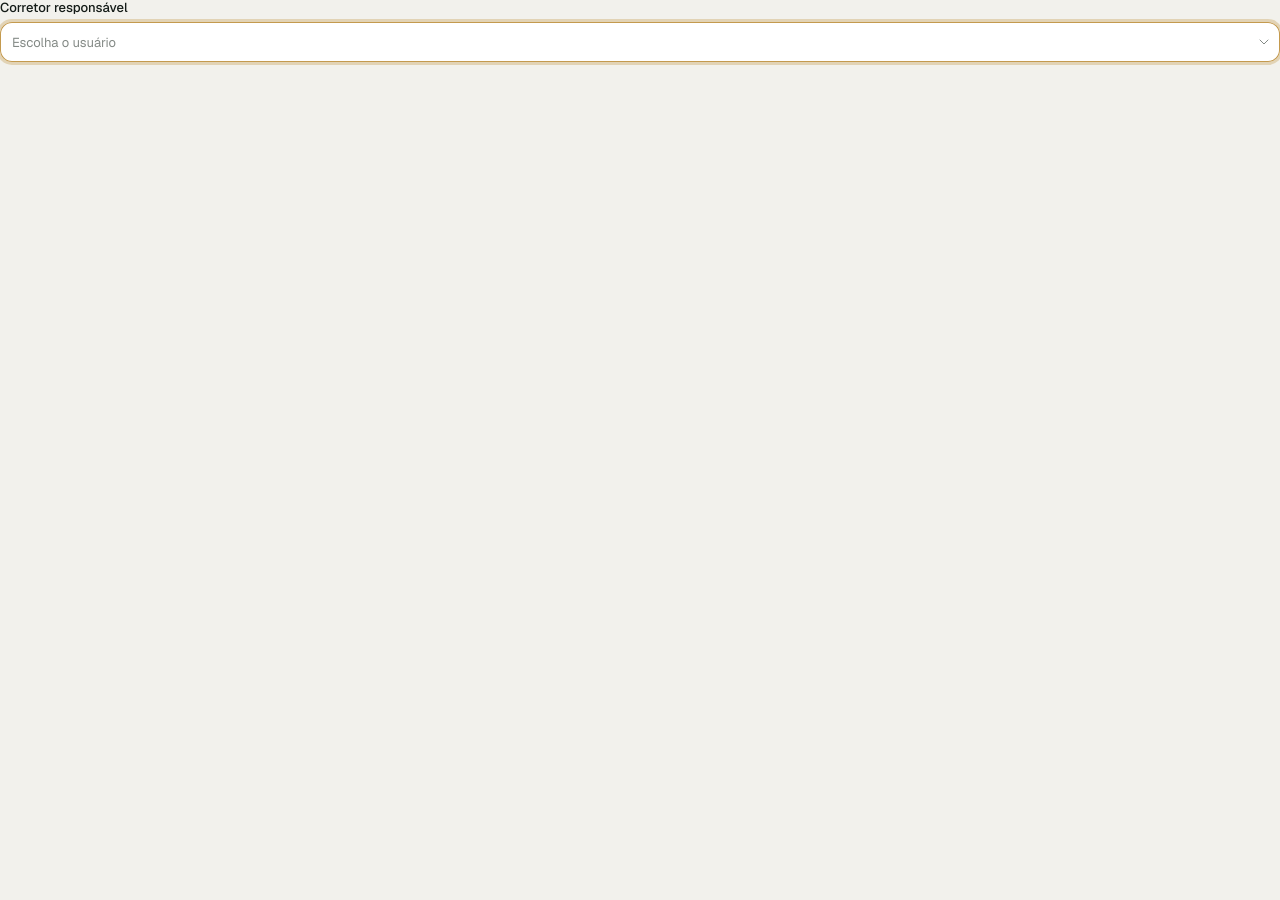
Test case: UserPicker › lista nome e e-mail e devolve o usuário escolhido pelo teclado
The image size is (1280, 900).
Press Arrowdown
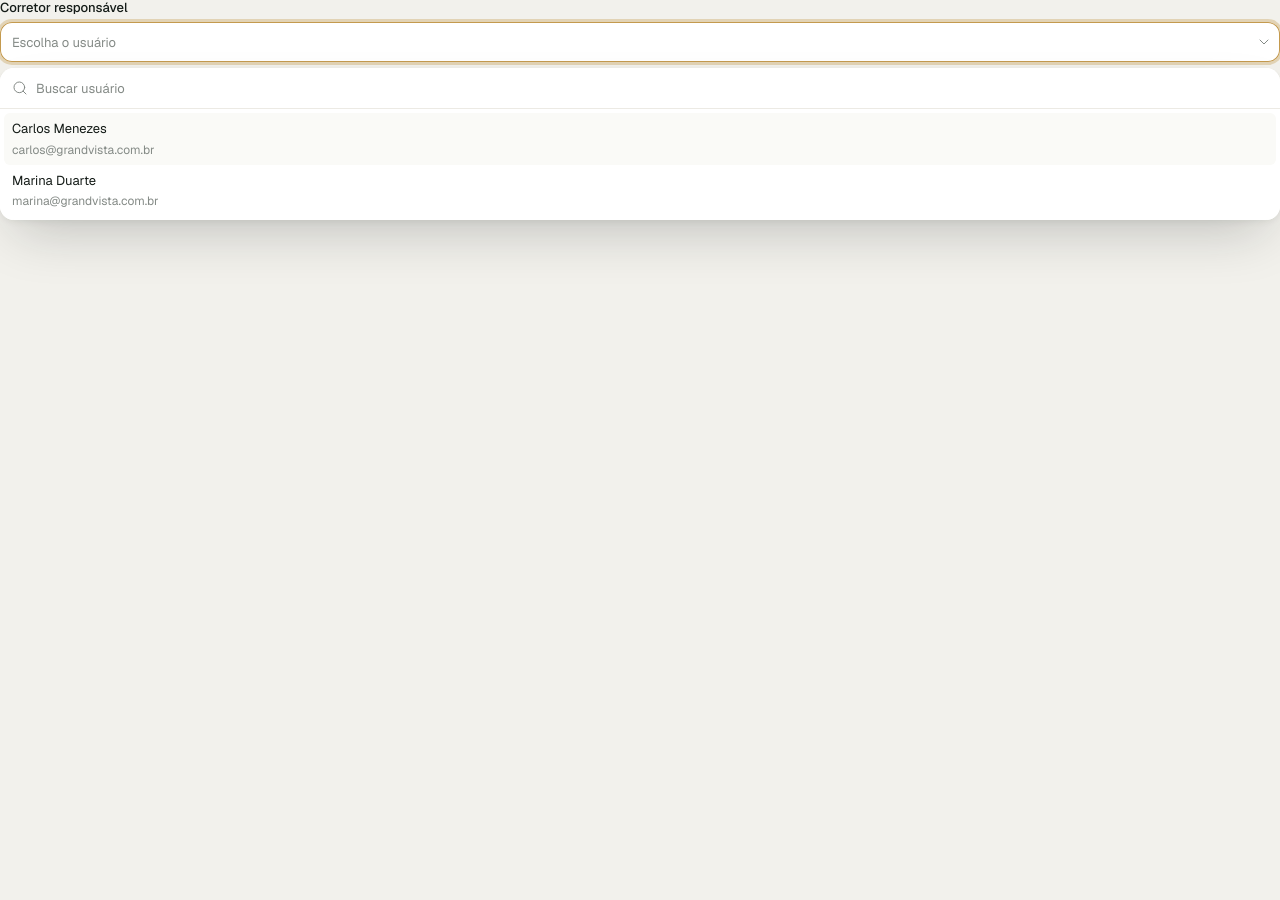
Type "mar" into the dropdown labelled "Buscar usuário" at (652, 88), box [36,68,1268,108]
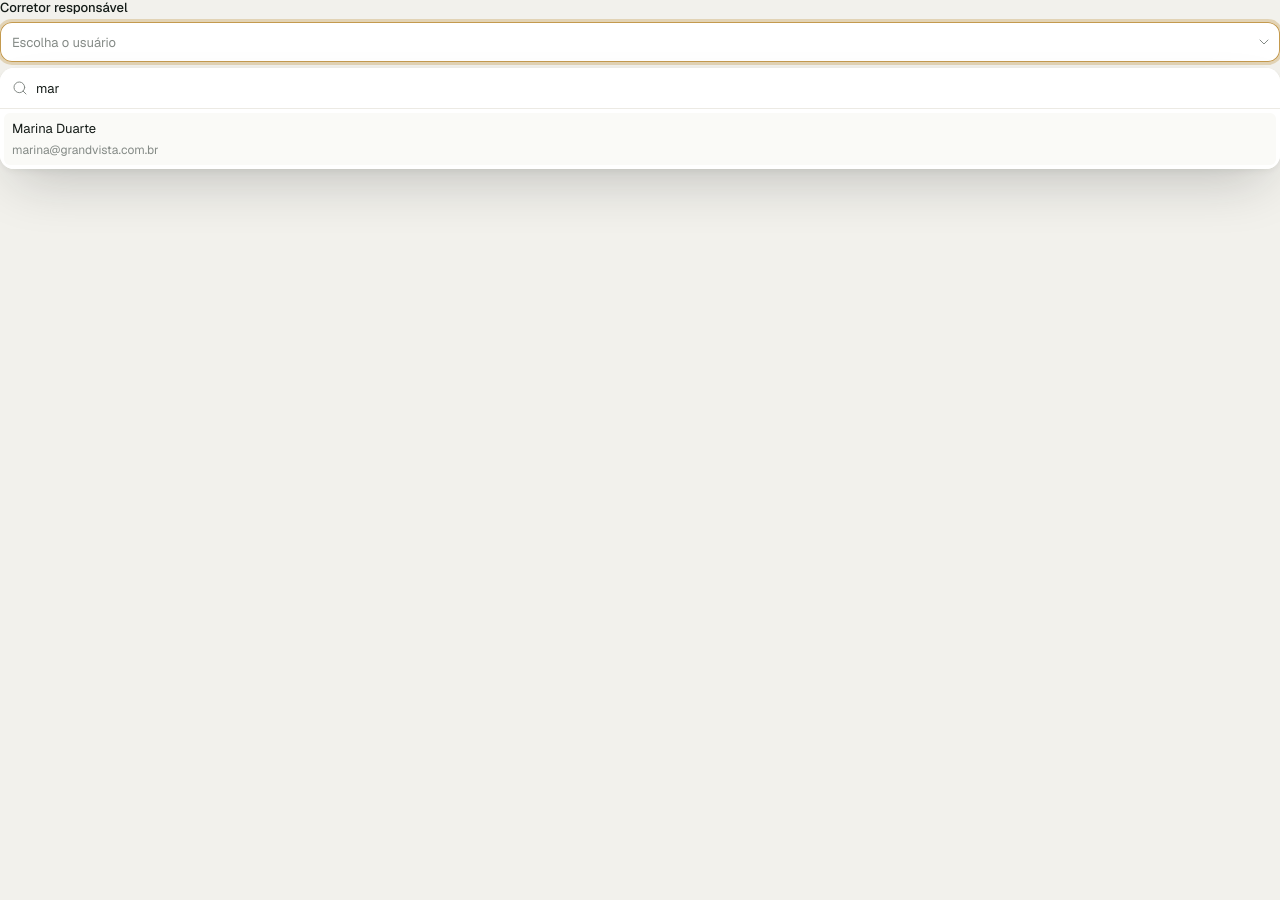
Now the option "Marina Duarte marina@grandvista.com.br" is shown, box [4,113,1276,164]
Now the option "Carlos" is gone
Press Enter
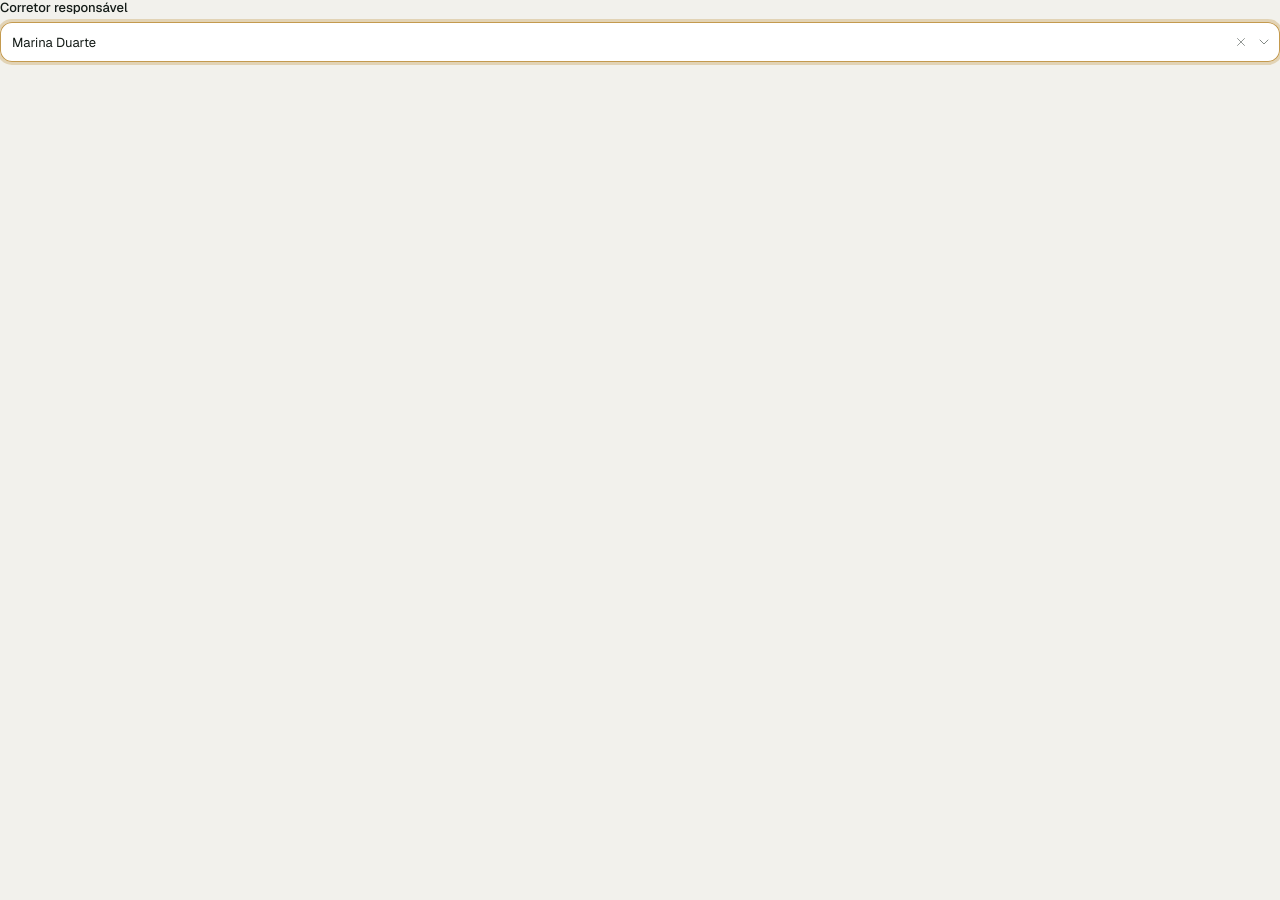
Now the dropdown named "Corretor responsável" reads "Marina Duarte", box [12,22,1226,62]
